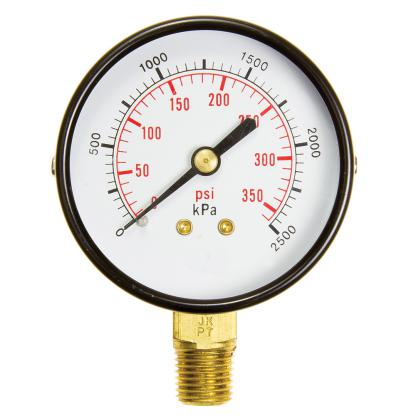needle: (123, 165, 199, 232)
